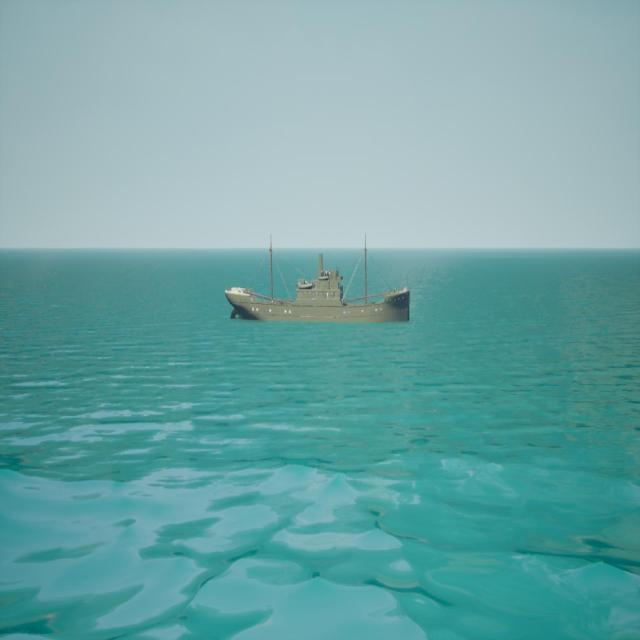fishing ship: (227, 243, 412, 324)
